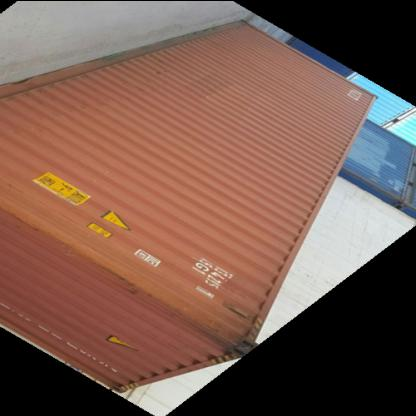Damage: (111, 274, 244, 346), (15, 212, 130, 268)
